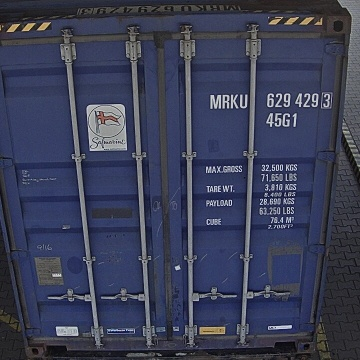serial_id: (210, 92, 332, 109)
